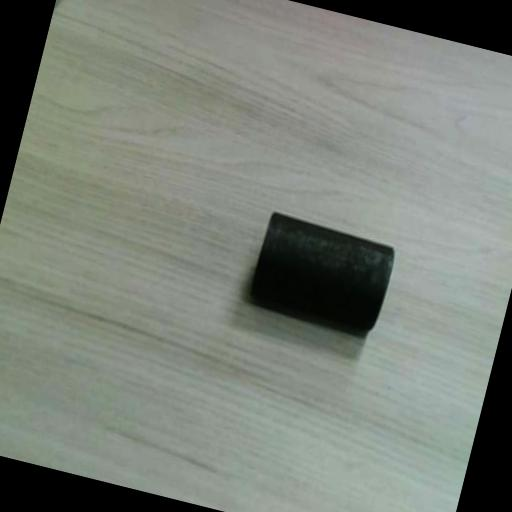peca: (251, 212, 394, 331)
